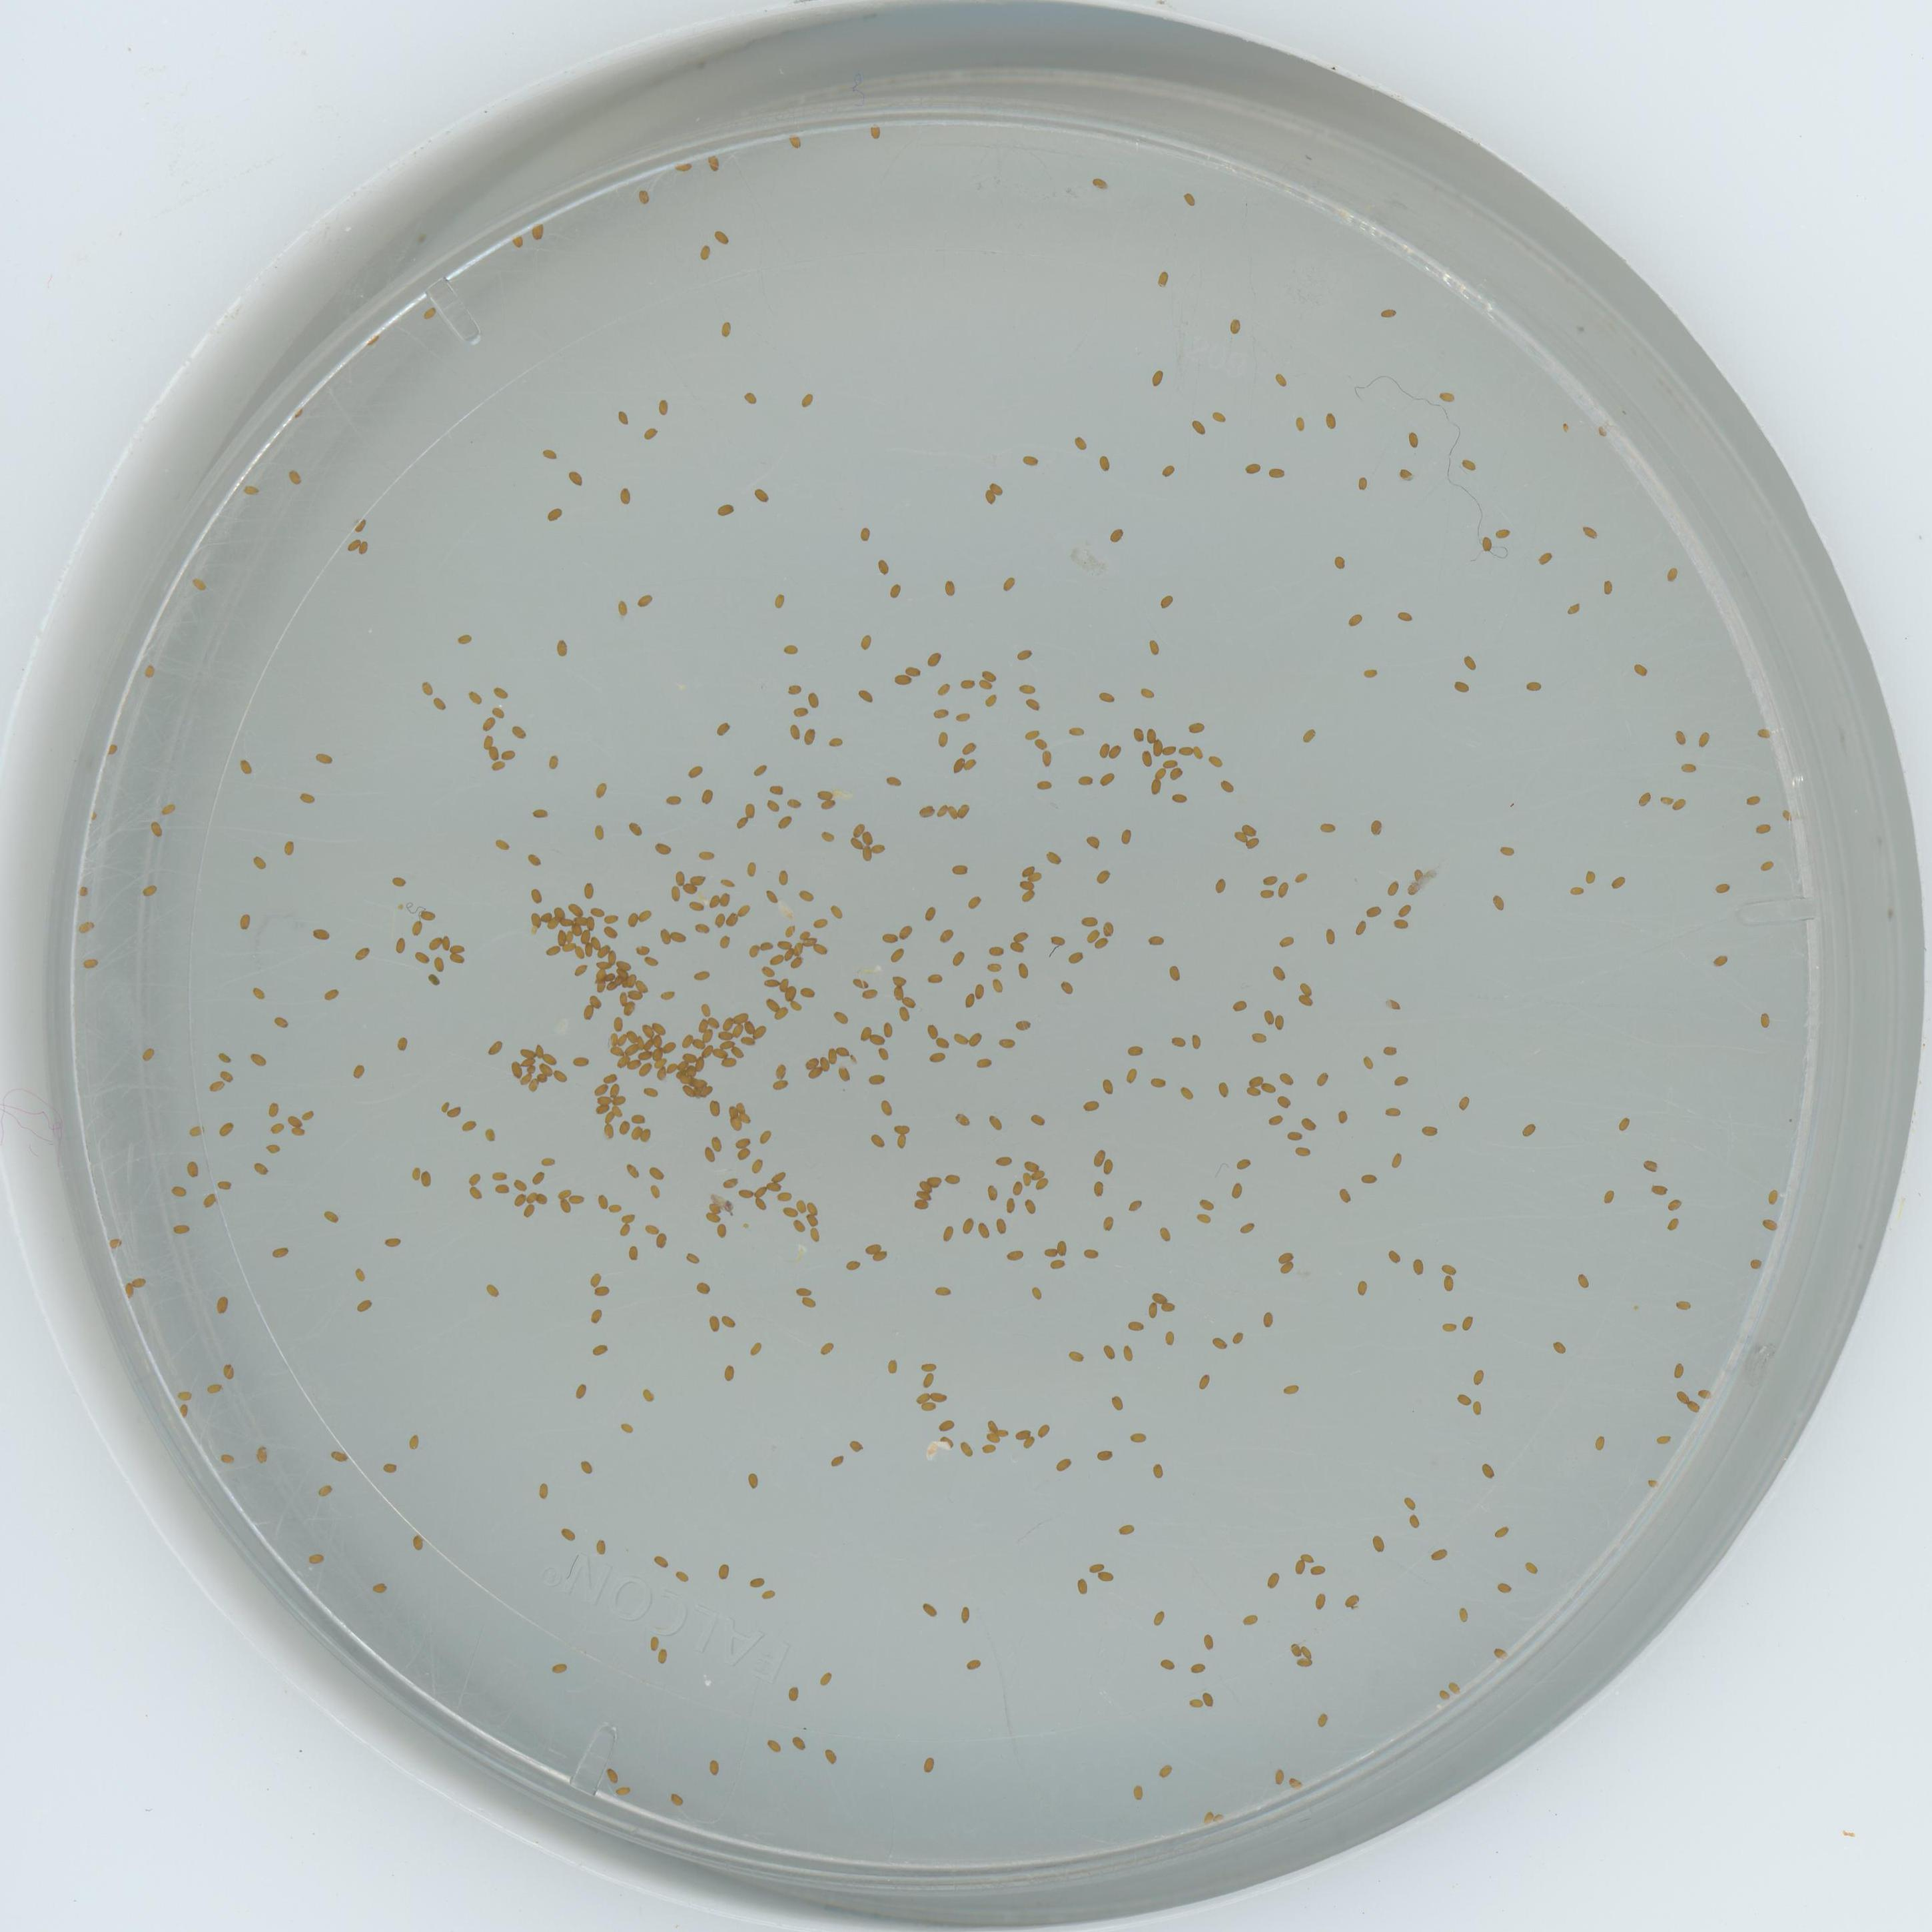seed: (667, 1789, 686, 1810), (603, 1764, 623, 1785), (203, 1380, 223, 1401), (253, 1445, 272, 1465), (175, 1385, 195, 1405), (161, 800, 180, 819), (101, 741, 120, 761), (329, 1447, 350, 1465), (175, 1403, 193, 1424), (718, 499, 736, 518), (633, 939, 653, 957), (1187, 418, 1207, 435), (1408, 1256, 1426, 1276), (1430, 1545, 1449, 1562), (1152, 1286, 1171, 1304), (1014, 961, 1031, 980), (1122, 1065, 1139, 1085), (614, 1782, 633, 1799), (219, 1449, 237, 1468), (929, 1387, 950, 1403), (1092, 1148, 1106, 1171), (311, 924, 329, 941), (754, 487, 771, 504), (547, 502, 564, 520), (554, 639, 571, 656), (280, 839, 297, 856), (407, 920, 425, 938), (418, 679, 435, 697), (655, 840, 672, 858), (566, 469, 584, 487), (671, 927, 688, 945), (614, 600, 632, 617), (249, 855, 267, 872), (616, 487, 633, 504), (655, 398, 672, 416), (890, 945, 908, 962), (745, 1472, 763, 1490), (869, 1069, 886, 1086), (593, 1338, 610, 1355), (487, 1039, 504, 1056), (922, 1599, 939, 1617), (593, 1537, 610, 1555), (720, 1311, 738, 1329), (249, 1051, 267, 1069), (920, 1757, 938, 1775), (952, 1111, 970, 1129), (957, 1440, 975, 1458), (1019, 679, 1037, 697), (1116, 828, 1134, 846), (1106, 527, 1123, 545), (1396, 901, 1414, 918), (991, 1215, 1008, 1233), (1479, 1461, 1497, 1479), (1311, 1592, 1329, 1610), (985, 1113, 1003, 1131), (1196, 1194, 1214, 1212), (1263, 1571, 1281, 1589), (1258, 1309, 1276, 1327), (188, 1122, 205, 1139), (189, 577, 207, 594), (418, 906, 437, 922), (924, 651, 943, 667), (904, 662, 924, 678), (697, 242, 713, 262), (954, 709, 973, 725), (863, 1238, 883, 1254), (1276, 932, 1295, 948), (1090, 175, 1109, 191), (1012, 1016, 1031, 1031), (1470, 1368, 1486, 1387), (1368, 1536, 1387, 1552), (957, 1605, 971, 1626), (672, 159, 694, 173), (389, 874, 407, 890), (920, 906, 938, 922), (858, 633, 876, 649), (593, 782, 610, 798), (430, 695, 448, 711), (688, 899, 706, 915), (568, 902, 586, 918), (941, 579, 957, 596), (580, 881, 596, 899), (603, 925, 621, 941), (768, 782, 786, 798), (938, 927, 955, 943), (510, 724, 527, 740), (614, 409, 632, 425), (881, 929, 899, 945), (812, 915, 830, 931), (782, 640, 800, 656), (426, 934, 444, 950), (527, 888, 545, 904), (686, 764, 704, 780), (315, 750, 333, 766), (918, 801, 936, 817), (777, 816, 794, 832), (665, 791, 683, 807), (736, 902, 754, 918), (800, 391, 817, 407), (798, 888, 816, 904), (525, 853, 543, 869), (237, 913, 253, 931), (529, 223, 547, 239), (803, 729, 821, 745), (237, 759, 255, 775), (764, 800, 782, 816), (297, 789, 315, 805), (876, 559, 893, 575), (715, 720, 732, 736), (531, 805, 548, 821), (430, 955, 448, 971), (934, 803, 952, 819), (529, 1169, 547, 1185), (870, 1131, 888, 1146), (895, 1005, 911, 1023), (748, 1573, 766, 1589), (893, 1118, 911, 1134), (717, 1564, 734, 1580), (630, 1108, 648, 1123), (264, 1139, 281, 1155), (587, 1307, 605, 1323), (354, 1295, 372, 1311), (384, 1231, 402, 1247), (938, 1417, 955, 1433), (722, 1173, 740, 1189), (251, 1159, 269, 1175), (773, 1063, 791, 1079), (571, 1051, 589, 1067), (890, 985, 906, 1003), (757, 1129, 775, 1145), (214, 1047, 232, 1063), (720, 1364, 736, 1382), (625, 1244, 642, 1260), (878, 1100, 895, 1116), (648, 1162, 665, 1178), (685, 1249, 702, 1265), (734, 1148, 752, 1164), (591, 1079, 609, 1095), (395, 1033, 410, 1051), (934, 1281, 952, 1297), (492, 1164, 508, 1182), (653, 1553, 671, 1569), (561, 1525, 577, 1543), (264, 1100, 281, 1116), (510, 1191, 525, 1208), (837, 1065, 853, 1083), (593, 1192, 610, 1208), (708, 1099, 724, 1116), (317, 1481, 334, 1497), (625, 1161, 642, 1177), (934, 1033, 952, 1049), (481, 1125, 499, 1141), (679, 1085, 697, 1100), (748, 1157, 766, 1173), (172, 1219, 189, 1235), (285, 1111, 303, 1127), (550, 1660, 568, 1675), (212, 1297, 230, 1313), (219, 1362, 237, 1378), (1274, 883, 1292, 899), (1384, 881, 1401, 897), (987, 941, 1005, 957), (1070, 435, 1088, 451), (1145, 639, 1161, 656), (1014, 646, 1031, 662), (1021, 451, 1039, 467), (1226, 317, 1242, 334), (1044, 849, 1060, 867), (1582, 869, 1599, 885), (1146, 780, 1164, 796), (1610, 874, 1628, 890), (1461, 655, 1479, 671), (1267, 464, 1284, 479), (1169, 789, 1187, 805), (1187, 720, 1205, 736), (1353, 474, 1369, 492), (1366, 819, 1384, 835), (1392, 916, 1410, 932), (1023, 697, 1040, 713), (1067, 948, 1085, 964), (1582, 524, 1599, 540), (1097, 771, 1115, 787), (1017, 862, 1035, 878), (1000, 575, 1017, 591), (1270, 370, 1288, 386), (1095, 741, 1111, 759), (1744, 793, 1762, 809), (1396, 607, 1414, 623), (1755, 821, 1773, 837), (1330, 554, 1348, 570), (1714, 879, 1732, 895), (1178, 191, 1196, 207), (1166, 766, 1184, 782), (1008, 939, 1026, 955), (1157, 1656, 1175, 1672), (1189, 1660, 1207, 1675), (1116, 1520, 1134, 1536), (1023, 1155, 1040, 1171), (1334, 1108, 1352, 1123), (1065, 1346, 1083, 1362), (1033, 1422, 1051, 1438), (1047, 1256, 1065, 1272), (1352, 1279, 1369, 1295), (1108, 1394, 1125, 1410), (1237, 1219, 1254, 1235), (1454, 1391, 1472, 1407), (1276, 1069, 1293, 1085), (1299, 1548, 1316, 1564), (1493, 1523, 1511, 1539), (1187, 1031, 1205, 1047), (1299, 1115, 1316, 1131), (1214, 1079, 1231, 1095), (1053, 1456, 1070, 1472), (1097, 1214, 1115, 1230), (1293, 1143, 1311, 1159), (1440, 1260, 1458, 1276), (1019, 1198, 1037, 1214), (1090, 1180, 1108, 1196), (1343, 1592, 1361, 1608), (1454, 1095, 1472, 1111), (1081, 1095, 1099, 1111), (1099, 1343, 1116, 1359), (1307, 1562, 1325, 1578), (1384, 1100, 1401, 1116), (1097, 1077, 1115, 1093), (966, 1030, 984, 1046), (1405, 1513, 1422, 1529), (1200, 1691, 1217, 1707), (1228, 1182, 1246, 1198), (1274, 1093, 1292, 1109), (1359, 1054, 1376, 1070), (1642, 1155, 1660, 1171), (1155, 1226, 1173, 1242), (1440, 1276, 1458, 1292), (1651, 1180, 1668, 1196), (975, 1221, 991, 1238), (1552, 1338, 1568, 1355), (1081, 1244, 1099, 1260), (1157, 1299, 1175, 1315), (1385, 996, 1403, 1012), (867, 124, 885, 140), (364, 331, 380, 349), (421, 304, 437, 322), (108, 1233, 124, 1251), (140, 663, 157, 679), (950, 862, 970, 876), (448, 941, 467, 955), (881, 1019, 895, 1039), (1065, 724, 1085, 738), (1033, 778, 1053, 793), (962, 991, 975, 1012), (830, 904, 846, 920), (667, 888, 683, 904), (623, 911, 639, 927), (494, 837, 510, 853), (541, 446, 557, 462), (699, 787, 715, 803), (771, 593, 787, 609), (637, 593, 653, 609), (899, 924, 915, 939), (888, 582, 904, 598), (492, 685, 508, 701), (948, 950, 964, 966), (821, 828, 837, 844), (656, 929, 672, 945), (787, 681, 803, 697), (787, 725, 803, 741), (628, 821, 644, 837), (467, 688, 483, 704), (718, 320, 734, 336), (642, 425, 658, 441), (950, 759, 966, 775), (828, 734, 844, 750), (490, 759, 506, 775), (713, 230, 729, 246), (775, 870, 791, 886), (352, 517, 368, 533), (391, 936, 407, 952), (637, 908, 653, 924), (745, 862, 761, 878), (343, 536, 359, 552), (807, 692, 823, 708), (858, 688, 874, 704), (591, 824, 607, 840), (936, 731, 952, 747), (764, 888, 780, 904), (545, 754, 561, 770), (456, 630, 472, 646), (858, 525, 874, 541), (287, 469, 303, 485), (782, 922, 798, 938), (801, 984, 817, 1000), (833, 1008, 849, 1024), (350, 1062, 366, 1077), (513, 1175, 529, 1191), (409, 1536, 425, 1552), (920, 1371, 936, 1387), (924, 1021, 939, 1037), (218, 1120, 234, 1136), (209, 1077, 225, 1093), (837, 1042, 853, 1058), (573, 1382, 589, 1398), (766, 1737, 782, 1753), (847, 1438, 863, 1454), (791, 1736, 807, 1752), (483, 1281, 499, 1297), (738, 1185, 754, 1201), (764, 996, 780, 1012), (853, 975, 869, 991), (697, 1001, 713, 1017), (695, 1279, 711, 1295), (819, 1670, 835, 1686), (219, 1067, 235, 1083), (786, 1686, 801, 1702), (646, 1635, 662, 1651), (324, 985, 340, 1001), (893, 1134, 909, 1150), (460, 1116, 476, 1132), (536, 1483, 552, 1499), (715, 1223, 731, 1238), (610, 1016, 626, 1031), (653, 1231, 669, 1247), (706, 1315, 722, 1330), (821, 1339, 837, 1355), (267, 1118, 283, 1134), (885, 1357, 901, 1373), (734, 1134, 750, 1150), (418, 1169, 433, 1185), (467, 1169, 483, 1185), (556, 1198, 571, 1214), (272, 1242, 288, 1258), (674, 1568, 690, 1583), (847, 1254, 863, 1270), (405, 1433, 421, 1449), (170, 1182, 186, 1198), (640, 1387, 656, 1403), (805, 1212, 821, 1228), (801, 1295, 817, 1311), (805, 1198, 821, 1214), (372, 1580, 387, 1596), (200, 1191, 216, 1207), (939, 1433, 955, 1449), (186, 1161, 202, 1177), (140, 1046, 156, 1062), (1159, 462, 1175, 478), (1012, 927, 1028, 943), (1244, 458, 1260, 474), (1366, 904, 1382, 920), (1095, 869, 1111, 885), (1405, 432, 1421, 448), (1537, 550, 1553, 566), (982, 694, 998, 709), (1212, 879, 1228, 895), (1148, 370, 1164, 386), (966, 895, 982, 911), (1490, 895, 1506, 911), (1108, 743, 1123, 759), (1292, 416, 1307, 432), (1500, 842, 1516, 858), (1323, 929, 1339, 945), (1210, 409, 1226, 425), (1322, 412, 1338, 428), (1129, 725, 1145, 741), (1100, 920, 1116, 936), (1049, 931, 1065, 947), (1633, 662, 1649, 678), (1242, 821, 1258, 837), (1095, 455, 1111, 471), (1599, 580, 1615, 596), (1154, 269, 1169, 285), (1479, 536, 1495, 552), (1083, 833, 1099, 849), (1207, 754, 1223, 770), (1136, 750, 1152, 766), (1525, 678, 1541, 694), (1638, 791, 1654, 807), (1665, 566, 1681, 582), (1021, 890, 1037, 906), (989, 479, 1005, 495), (1658, 793, 1674, 809), (1037, 752, 1053, 768), (1759, 858, 1775, 874), (1362, 665, 1378, 681), (1438, 387, 1454, 403), (1300, 727, 1316, 743), (980, 488, 996, 504), (1242, 1612, 1258, 1628), (1161, 1329, 1177, 1345), (1592, 1435, 1608, 1451), (966, 1656, 982, 1672), (1269, 1111, 1284, 1127), (998, 1033, 1014, 1049), (1389, 1152, 1405, 1168), (1127, 1316, 1143, 1332), (1460, 1315, 1476, 1330), (1361, 1169, 1376, 1185), (1247, 1072, 1263, 1088), (1001, 1196, 1017, 1212), (1315, 1070, 1330, 1086), (1523, 1560, 1539, 1576), (1150, 1610, 1166, 1626), (1231, 998, 1247, 1014), (1095, 1445, 1111, 1461), (1233, 1155, 1249, 1171), (1575, 1272, 1591, 1288), (1601, 1187, 1617, 1203), (1200, 1635, 1215, 1651), (1125, 1196, 1141, 1212), (1129, 1428, 1145, 1444), (1249, 1028, 1265, 1044), (1299, 980, 1315, 996), (1074, 1578, 1090, 1594), (1166, 966, 1182, 982), (985, 1184, 1001, 1200), (1026, 1284, 1042, 1300), (1656, 1430, 1672, 1445), (975, 1053, 991, 1069), (1757, 1010, 1773, 1026), (1617, 1115, 1633, 1131), (1120, 1345, 1136, 1361), (1028, 1111, 1044, 1127), (1522, 1120, 1537, 1136), (1150, 1072, 1166, 1088), (1210, 1334, 1226, 1350), (1270, 966, 1286, 982), (1228, 1329, 1244, 1345), (1196, 1208, 1212, 1224), (1675, 1295, 1691, 1311), (1670, 1362, 1686, 1378), (1456, 1606, 1472, 1622), (1157, 1762, 1173, 1778), (1764, 1187, 1780, 1203), (1315, 1711, 1330, 1727), (1299, 1644, 1315, 1660), (1644, 1476, 1660, 1491), (1778, 809, 1794, 824), (1757, 727, 1773, 743), (1568, 602, 1583, 617), (1198, 1812, 1214, 1828), (1214, 1812, 1230, 1828), (814, 945, 830, 961), (310, 1552, 326, 1568), (287, 407, 303, 423), (510, 232, 525, 248), (119, 1283, 134, 1299), (133, 1274, 149, 1290), (83, 955, 99, 971), (78, 920, 94, 936), (76, 885, 92, 901), (142, 883, 157, 899), (149, 821, 165, 837), (895, 672, 913, 686), (354, 945, 372, 959), (741, 391, 759, 405), (886, 775, 904, 789), (412, 950, 430, 964), (690, 870, 708, 885), (849, 823, 867, 837), (936, 681, 954, 695), (602, 911, 619, 925), (718, 876, 736, 890), (479, 718, 497, 732), (706, 156, 724, 170), (796, 1281, 814, 1295), (692, 968, 709, 982), (862, 987, 879, 1001), (540, 1152, 557, 1166), (869, 1031, 886, 1046), (876, 1046, 893, 1060), (704, 1145, 718, 1162), (582, 1003, 596, 1021), (830, 1453, 847, 1467), (939, 1224, 954, 1242), (708, 1759, 722, 1776), (642, 1085, 660, 1099), (380, 1460, 398, 1474), (653, 1649, 671, 1663), (446, 1104, 464, 1118), (662, 1040, 679, 1054), (786, 998, 803, 1012), (1453, 679, 1470, 694), (1405, 883, 1422, 897), (1079, 913, 1097, 927), (1146, 932, 1164, 947), (1292, 870, 1309, 885), (1076, 773, 1093, 787), (1097, 690, 1115, 704), (1030, 736, 1047, 750), (1568, 885, 1585, 899), (1318, 821, 1336, 835), (1378, 304, 1396, 318), (1081, 929, 1099, 943), (961, 741, 978, 755), (1168, 1033, 1185, 1047), (1260, 1008, 1274, 1026), (1008, 1180, 1026, 1194), (1284, 1127, 1302, 1141), (1148, 1463, 1166, 1477), (1290, 1560, 1307, 1575), (1086, 1559, 1104, 1573), (1281, 1380, 1299, 1394), (1495, 1580, 1513, 1594), (1095, 1571, 1113, 1585), (1667, 1196, 1684, 1210), (1039, 1244, 1056, 1258), (1440, 1318, 1458, 1332), (1277, 1261, 1295, 1276), (1421, 1122, 1438, 1136), (1177, 1085, 1194, 1099), (1276, 1249, 1293, 1263), (1338, 1187, 1352, 1205), (985, 959, 1003, 973), (947, 805, 961, 823), (708, 1200, 725, 1214), (699, 1086, 717, 1100), (640, 954, 660, 966), (510, 1062, 522, 1081), (761, 975, 780, 987), (961, 1215, 973, 1235), (934, 706, 950, 720), (694, 920, 709, 934), (699, 849, 715, 863), (743, 803, 759, 817), (847, 837, 863, 851), (589, 904, 605, 918), (501, 747, 517, 761), (817, 787, 833, 801), (704, 895, 720, 909), (745, 943, 761, 957), (734, 817, 750, 832), (492, 704, 508, 718), (759, 938, 775, 952), (754, 764, 770, 778), (718, 892, 734, 906), (637, 189, 653, 203), (711, 911, 725, 927), (775, 936, 791, 950), (872, 842, 888, 856), (798, 929, 814, 943), (927, 971, 943, 985), (945, 1171, 961, 1185), (216, 1177, 232, 1191), (920, 1359, 936, 1373), (642, 1219, 658, 1233), (579, 1460, 594, 1474), (350, 1267, 366, 1281), (771, 1168, 787, 1182), (748, 1341, 764, 1355), (892, 971, 908, 985), (570, 1191, 586, 1205), (777, 1189, 793, 1203), (322, 1207, 338, 1221), (594, 1284, 610, 1299), (616, 1223, 632, 1237), (775, 1005, 791, 1019), (587, 1272, 603, 1286), (554, 1069, 570, 1083), (904, 993, 918, 1008), (467, 1185, 483, 1200), (609, 1200, 625, 1214), (782, 1203, 798, 1217), (522, 1203, 538, 1217), (299, 1106, 315, 1120), (591, 993, 605, 1008), (494, 1180, 510, 1194), (755, 1023, 770, 1039), (754, 1196, 770, 1210), (874, 1249, 890, 1263), (929, 1049, 945, 1063), (660, 987, 676, 1001), (653, 1021, 669, 1035), (809, 1228, 824, 1242), (927, 1173, 943, 1187), (640, 1023, 656, 1037), (711, 1136, 725, 1152), (407, 1166, 421, 1182), (803, 1054, 819, 1069), (621, 1210, 637, 1224), (761, 1587, 777, 1601), (619, 1421, 635, 1435), (617, 1118, 632, 1134), (272, 1014, 288, 1028), (648, 1184, 663, 1198), (793, 1198, 809, 1212), (773, 1077, 789, 1092), (249, 985, 265, 1000), (952, 1031, 968, 1046), (628, 987, 644, 1001), (743, 1021, 759, 1035), (621, 1001, 637, 1016), (543, 1051, 559, 1065), (824, 1750, 840, 1764), (637, 1063, 653, 1077), (640, 1129, 655, 1145), (720, 1017, 736, 1031), (701, 1044, 715, 1060), (1138, 686, 1154, 701), (1261, 872, 1276, 888), (1495, 525, 1511, 540), (1713, 954, 1729, 968), (1024, 727, 1040, 741), (1674, 731, 1688, 747), (1461, 456, 1477, 471), (1157, 594, 1173, 609), (1346, 612, 1362, 626), (1352, 920, 1368, 934), (1695, 732, 1711, 747), (1681, 761, 1697, 775), (1093, 936, 1109, 950), (1150, 740, 1164, 755), (1217, 778, 1233, 793), (1672, 798, 1688, 812), (1244, 837, 1260, 851), (1191, 747, 1207, 761), (1028, 870, 1044, 885), (961, 678, 977, 692), (1398, 465, 1414, 479), (1380, 1042, 1396, 1056), (1014, 1426, 1030, 1440), (1674, 1389, 1690, 1403), (1394, 1070, 1408, 1086), (1697, 1384, 1711, 1399), (996, 1152, 1012, 1166), (1665, 1217, 1681, 1231), (1058, 980, 1074, 994), (989, 978, 1005, 993), (1007, 1246, 1023, 1260), (1401, 1495, 1417, 1509), (1272, 1014, 1286, 1030), (1269, 1769, 1284, 1783), (1385, 1249, 1401, 1263), (1686, 1398, 1702, 1412), (1127, 1042, 1143, 1056), (1194, 1375, 1210, 1389), (1033, 1177, 1049, 1191), (1021, 1435, 1037, 1449), (1295, 1656, 1311, 1670), (1019, 1171, 1033, 1187), (1100, 1157, 1115, 1173), (1187, 1695, 1203, 1709), (982, 1440, 996, 1456), (1129, 1785, 1145, 1799), (1760, 1215, 1776, 1230), (1297, 994, 1313, 1008), (985, 1431, 1001, 1445), (1438, 1688, 1453, 1704), (1447, 1679, 1461, 1695), (1596, 423, 1612, 437), (1557, 421, 1573, 435), (1288, 1776, 1304, 1790), (1031, 1168, 1047, 1182), (920, 1178, 934, 1194), (628, 1127, 642, 1143), (725, 1102, 740, 1118), (738, 1111, 754, 1125), (729, 1116, 743, 1132), (786, 134, 801, 149), (543, 945, 561, 957), (441, 934, 453, 952), (602, 1072, 619, 1085), (819, 1056, 832, 1074), (607, 1044, 625, 1056), (978, 669, 996, 681), (1162, 757, 1180, 770), (1258, 1079, 1276, 1092), (1146, 1302, 1159, 1320), (1244, 1085, 1261, 1097), (957, 803, 970, 821), (616, 959, 633, 971), (704, 1212, 724, 1223), (862, 832, 876, 846), (672, 870, 686, 885), (787, 796, 801, 810), (727, 911, 741, 925), (487, 747, 501, 761), (717, 934, 731, 948), (862, 847, 876, 862), (242, 483, 257, 497), (357, 540, 372, 554), (791, 941, 805, 955), (791, 955, 805, 970), (426, 971, 441, 985), (858, 1026, 872, 1040), (916, 1389, 931, 1403), (784, 987, 798, 1001), (793, 1219, 807, 1233), (679, 1033, 694, 1047), (533, 1044, 547, 1058), (518, 1044, 533, 1058), (602, 1123, 616, 1138), (653, 1067, 667, 1081), (540, 1063, 554, 1077), (609, 1085, 623, 1099), (706, 1016, 720, 1030), (614, 1054, 628, 1069), (1178, 743, 1192, 757), (1145, 727, 1159, 741), (1410, 869, 1424, 883), (1054, 1240, 1069, 1254), (1470, 1399, 1484, 1414), (1286, 1642, 1300, 1656), (994, 1424, 1008, 1438), (1748, 1254, 1762, 1269), (973, 984, 987, 998), (1491, 1645, 1506, 1660), (525, 1191, 540, 1205), (602, 1111, 616, 1125), (598, 945, 612, 959), (540, 909, 554, 924), (794, 706, 810, 718), (529, 913, 541, 929), (580, 929, 593, 945), (821, 800, 837, 812), (479, 734, 495, 747), (720, 1056, 736, 1069), (734, 1010, 750, 1023), (556, 1185, 571, 1198), (610, 1104, 626, 1116), (713, 1046, 729, 1058), (740, 1033, 755, 1046), (694, 1058, 709, 1070), (766, 1180, 782, 1192), (731, 1046, 747, 1058), (694, 1021, 709, 1033), (520, 1054, 536, 1067), (736, 1099, 748, 1115), (626, 1058, 642, 1070), (977, 679, 993, 692), (1017, 879, 1033, 892), (1258, 888, 1274, 901), (1152, 766, 1168, 778), (692, 1077, 708, 1090), (718, 1030, 734, 1042), (778, 977, 791, 993), (637, 1049, 653, 1062), (653, 1058, 669, 1070), (584, 941, 596, 957), (591, 936, 603, 952), (801, 936, 817, 948), (681, 885, 699, 895), (766, 955, 784, 966), (446, 952, 464, 962), (920, 1401, 938, 1412), (571, 964, 586, 977), (754, 1184, 768, 1196), (290, 1123, 304, 1136), (683, 1049, 697, 1062), (809, 1065, 823, 1077), (637, 980, 651, 993), (616, 989, 628, 1003), (625, 1030, 639, 1042), (437, 1099, 451, 1111), (612, 1093, 626, 1106), (826, 1049, 839, 1063), (694, 1035, 706, 1049), (663, 1062, 678, 1074), (1233, 832, 1247, 844), (964, 759, 978, 771), (1161, 741, 1173, 755), (985, 1419, 998, 1433), (527, 1077, 540, 1092), (686, 1065, 699, 1079), (732, 1023, 745, 1037), (653, 1035, 665, 1049), (651, 1047, 663, 1062), (626, 973, 639, 987), (593, 970, 607, 982), (593, 980, 607, 993), (573, 947, 586, 961), (571, 922, 584, 936), (784, 948, 796, 962), (547, 916, 559, 931), (554, 904, 564, 920), (607, 950, 617, 966), (915, 1198, 931, 1208), (915, 1189, 931, 1200), (761, 966, 777, 977), (596, 1095, 612, 1106), (594, 1104, 610, 1115), (674, 1069, 690, 1079), (702, 1028, 713, 1044), (607, 1031, 617, 1047), (596, 961, 612, 971), (559, 918, 575, 929), (536, 1192, 548, 1205), (525, 1065, 538, 1077), (536, 1072, 548, 1085), (575, 915, 587, 927), (586, 916, 596, 931), (556, 931, 566, 945), (561, 941, 575, 952), (520, 1072, 531, 1086), (626, 1040, 637, 1054), (676, 1060, 690, 1070), (617, 1033, 628, 1047), (644, 1037, 655, 1051), (616, 968, 630, 978), (566, 931, 577, 945), (720, 1040, 736, 1049), (637, 1035, 646, 1051), (605, 980, 617, 991), (679, 1076, 692, 1086), (614, 975, 625, 985), (605, 973, 617, 982)
